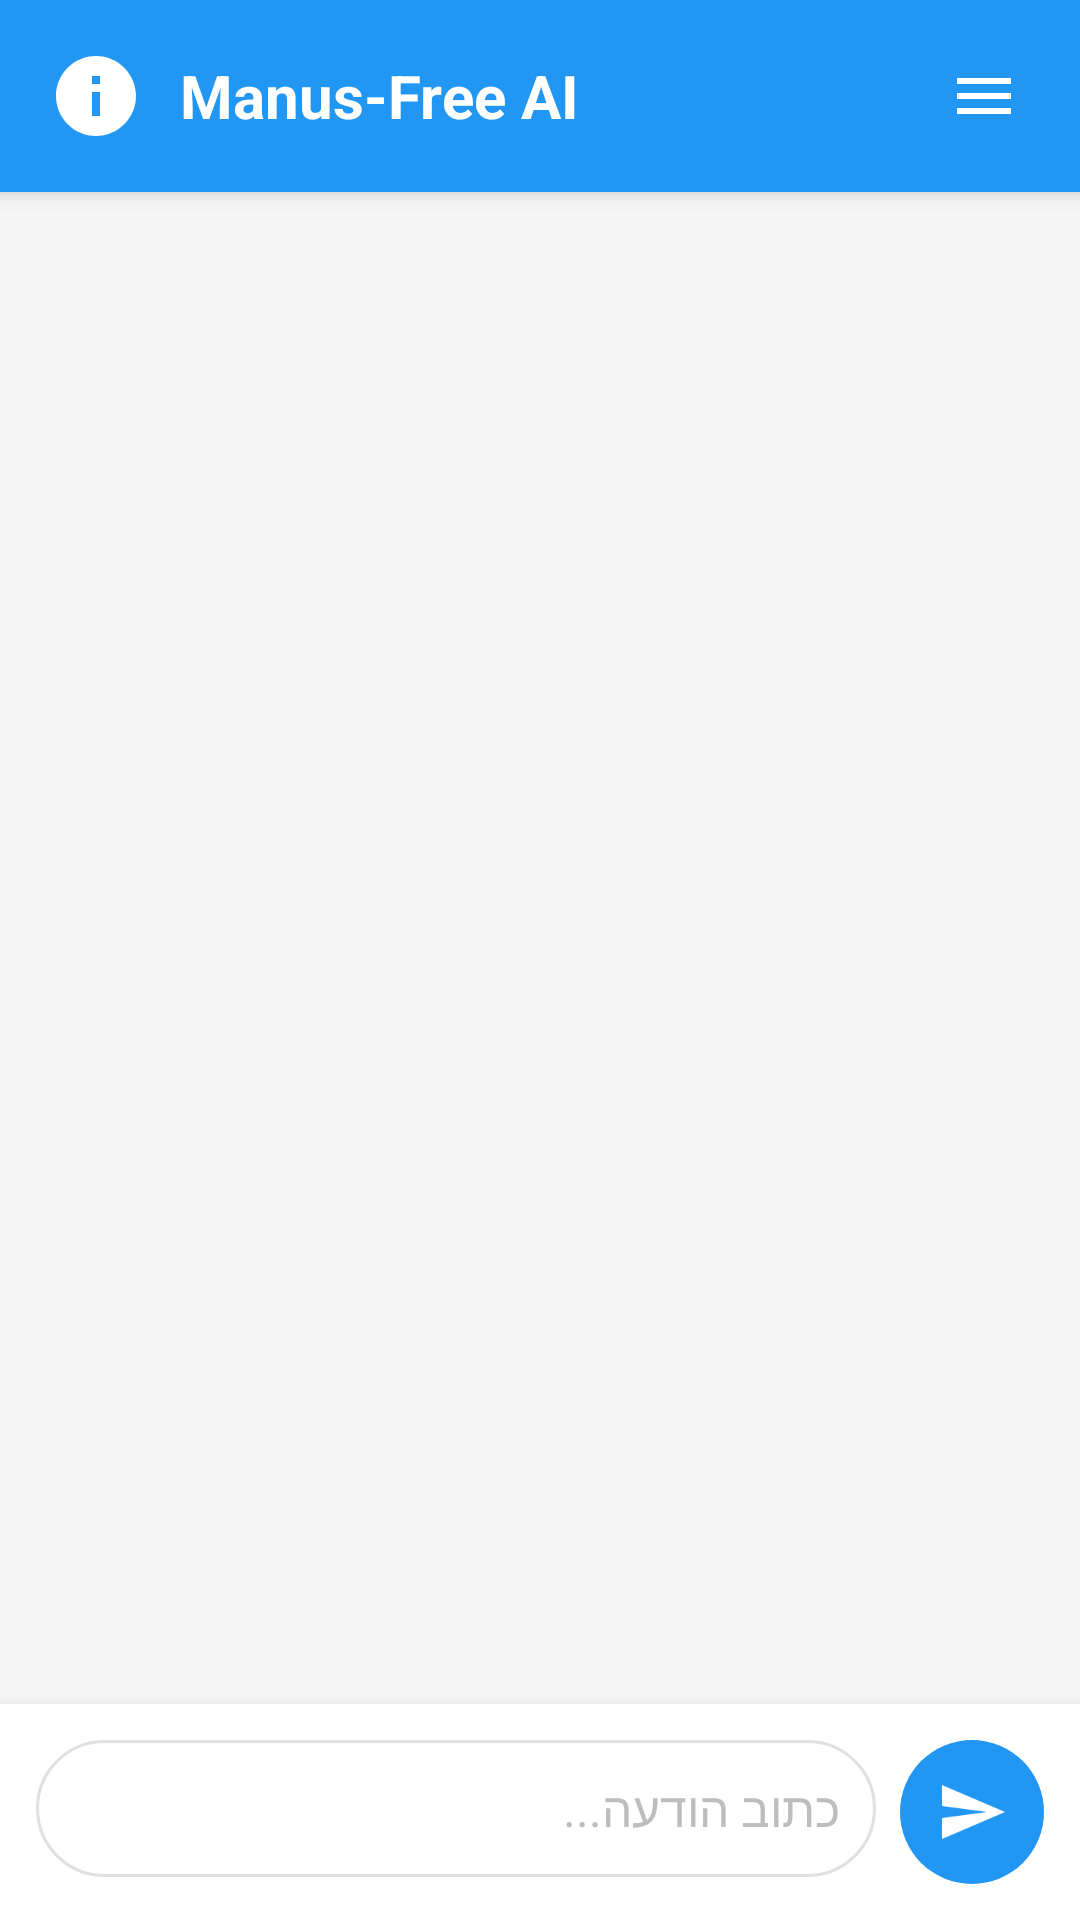

Screen size 1080 × 1920. Icon name, then its box in pixels as (x1, y1, x2, y2):
menu: (957, 78, 1011, 114)
שלח הודעה: (900, 1740, 1044, 1884)
